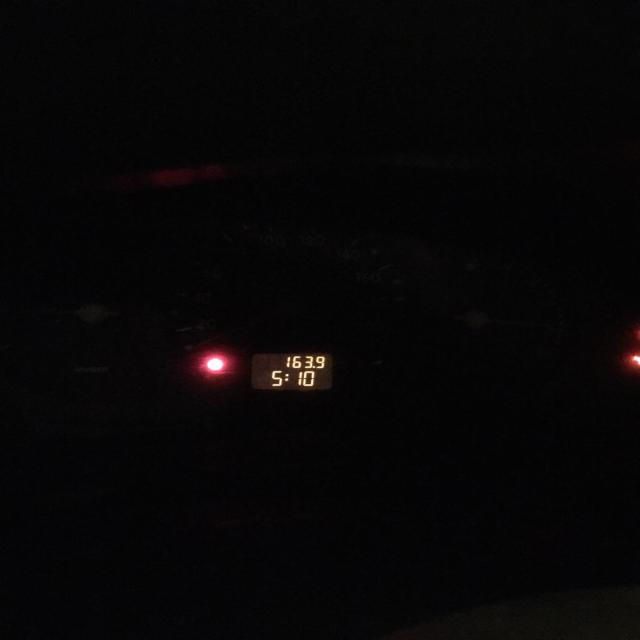odometer: (249, 352, 333, 391)
